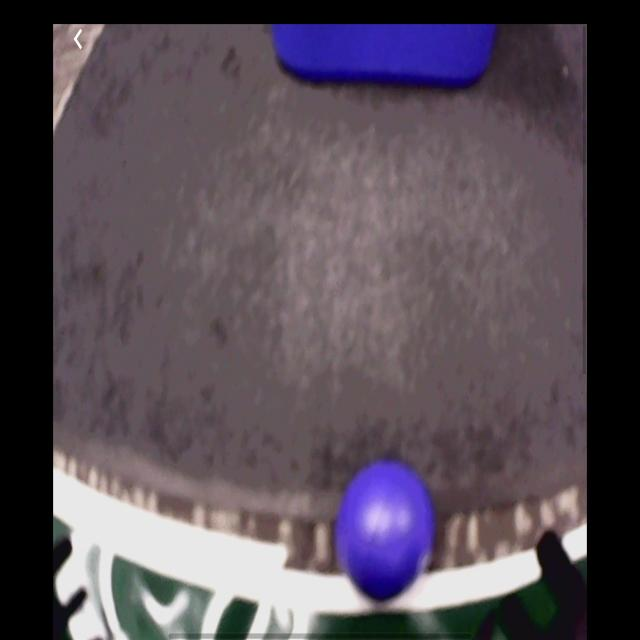ball: (340, 460, 436, 603)
